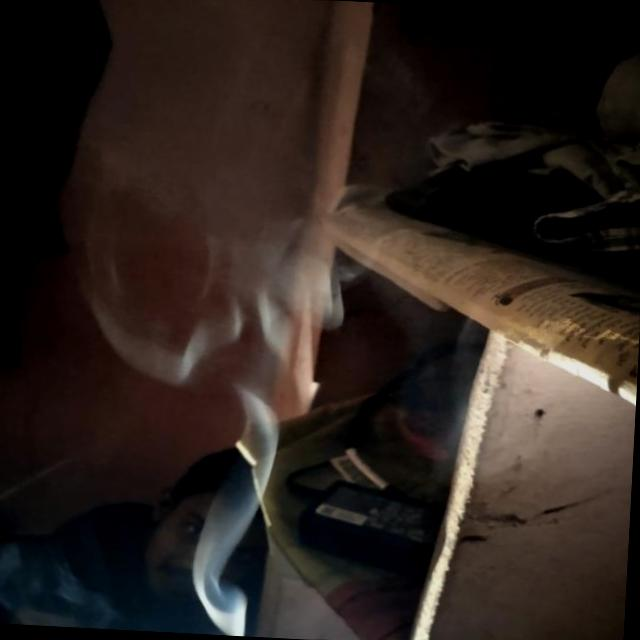smoke: (95, 230, 316, 639)
